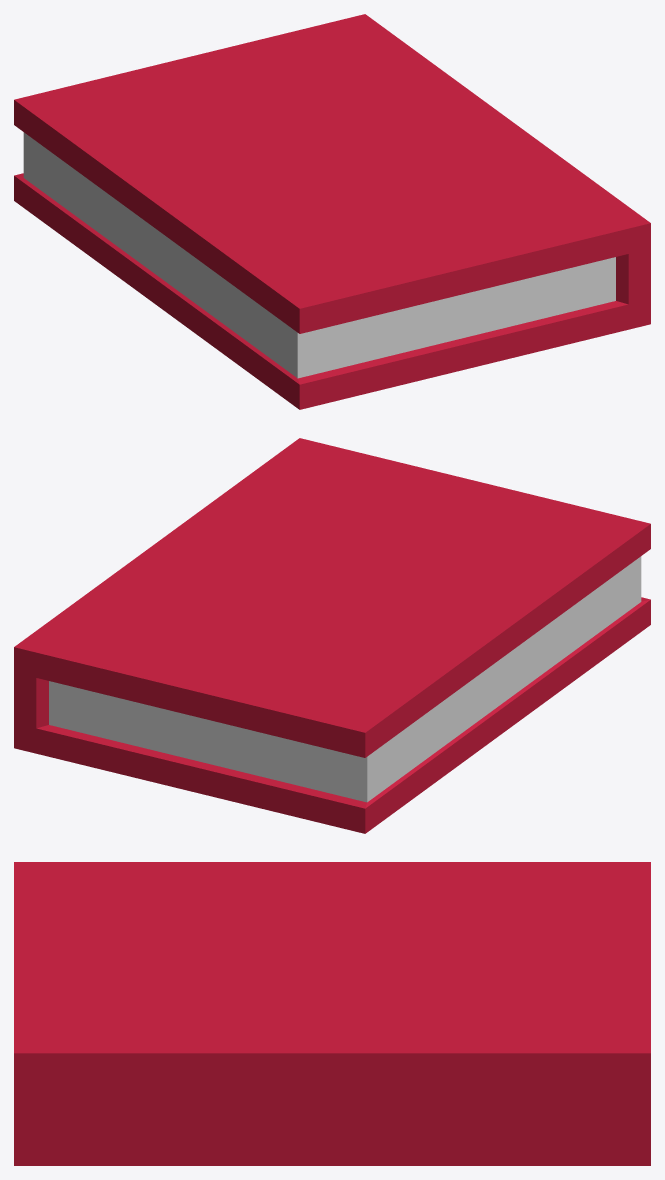
Rendered from Book.fbx.
3 renders of one model, top to bottom at view 1: azimuth 30°, elevation 25°; view 2: azimuth 150°, elevation 25°; view 3: azimuth 270°, elevation 25°, orthographic. The views are drawn at different scales.
Parts seen in each view (by area): view 1: Book; view 2: Book; view 3: Book.
Boxes of the visible parts, left/top/right/bottom form: Book: left=14, top=14, right=650, bottom=409; Book: left=14, top=438, right=650, bottom=833; Book: left=14, top=862, right=650, bottom=1165.
Size of the model in its own units: 1.16 by 0.319 by 1.63.
